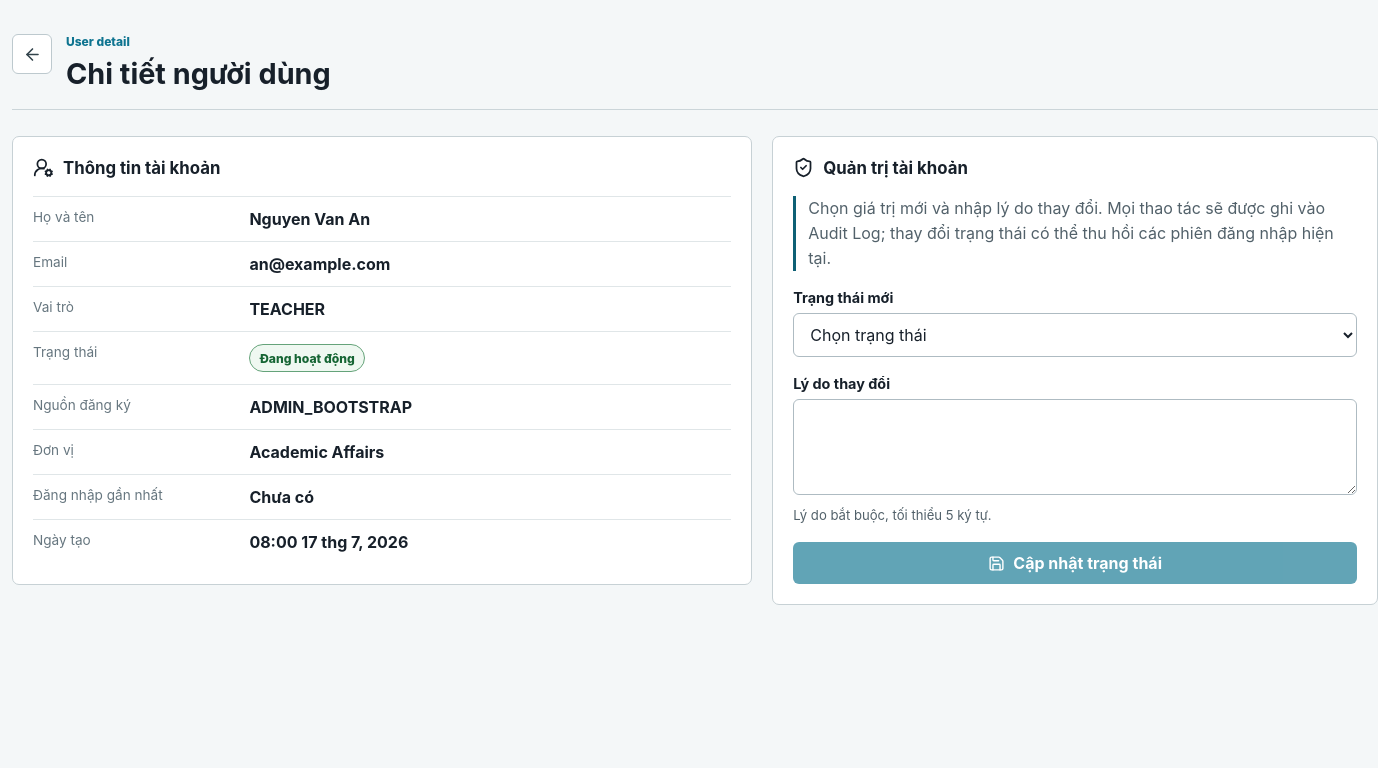
Test: Admin user management UI › explains a teacher status update blocked by active classrooms
Expected: the text "Nguyen Van An" is shown, [249, 209, 370, 229]
Select "Đã khóa" in the dropdown labelled "Trạng thái mới". click: (1075, 335)
box: [793, 313, 1357, 357]
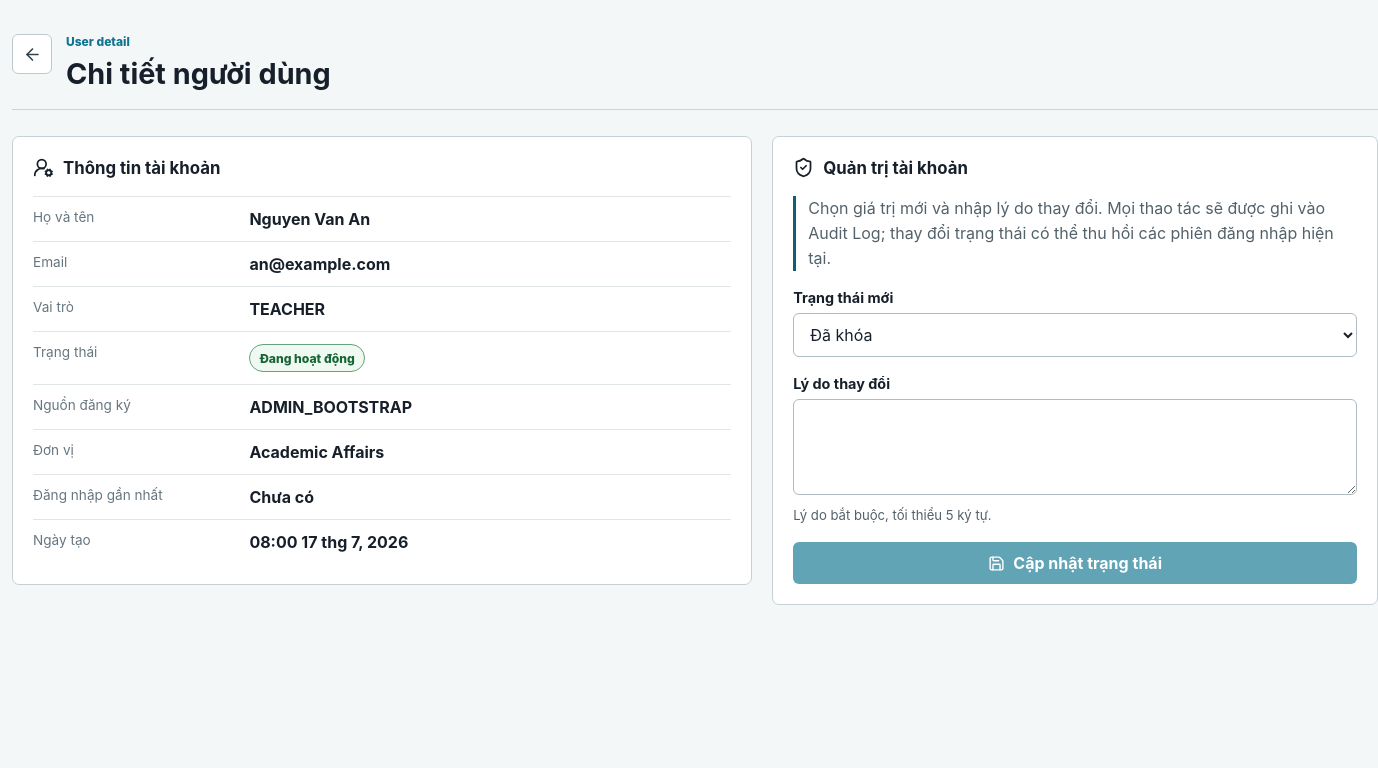
Type "Tạm khóa theo yêu cầu quản trị" into the text box labelled "Lý do thay đổi". click: (1075, 447)
box: [793, 399, 1357, 495]
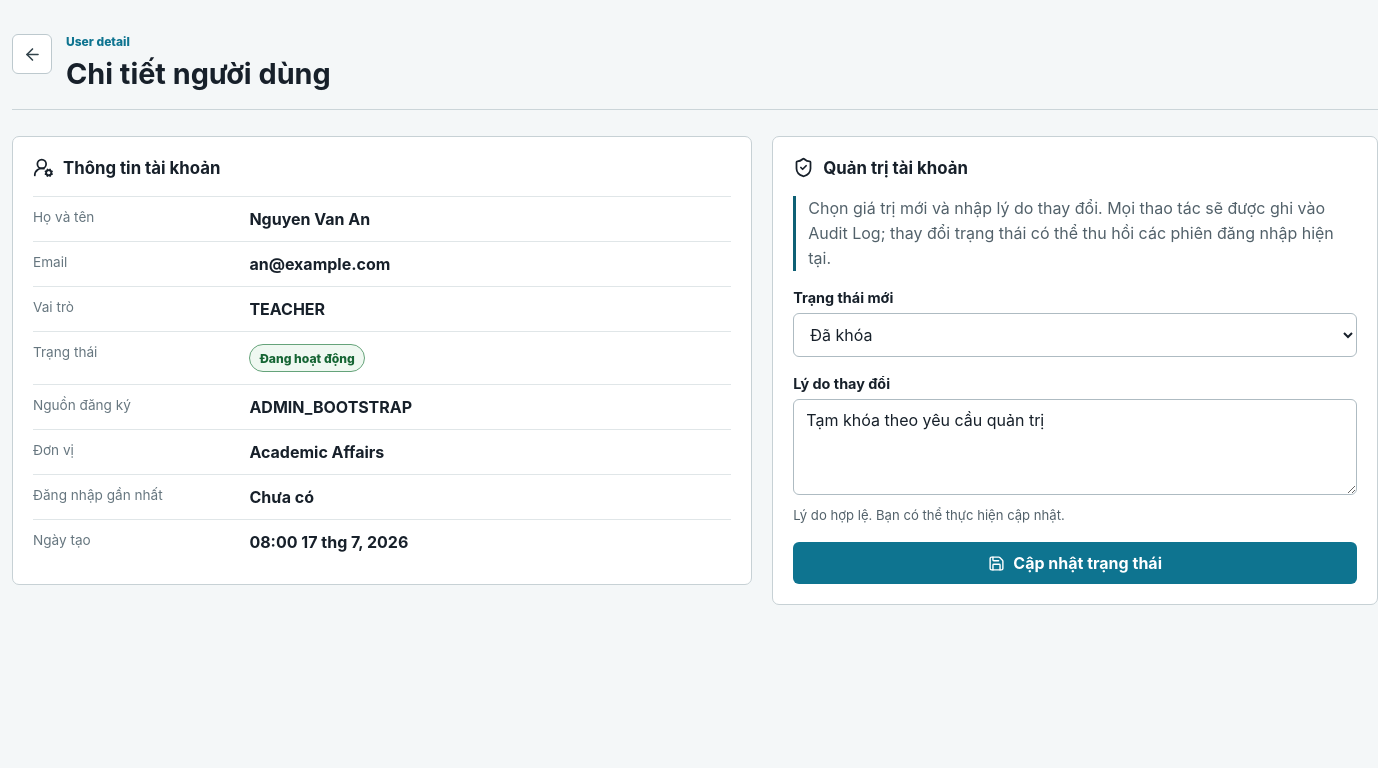
Click the button "Cập nhật trạng thái". click: (1075, 563)
box: [793, 542, 1357, 584]
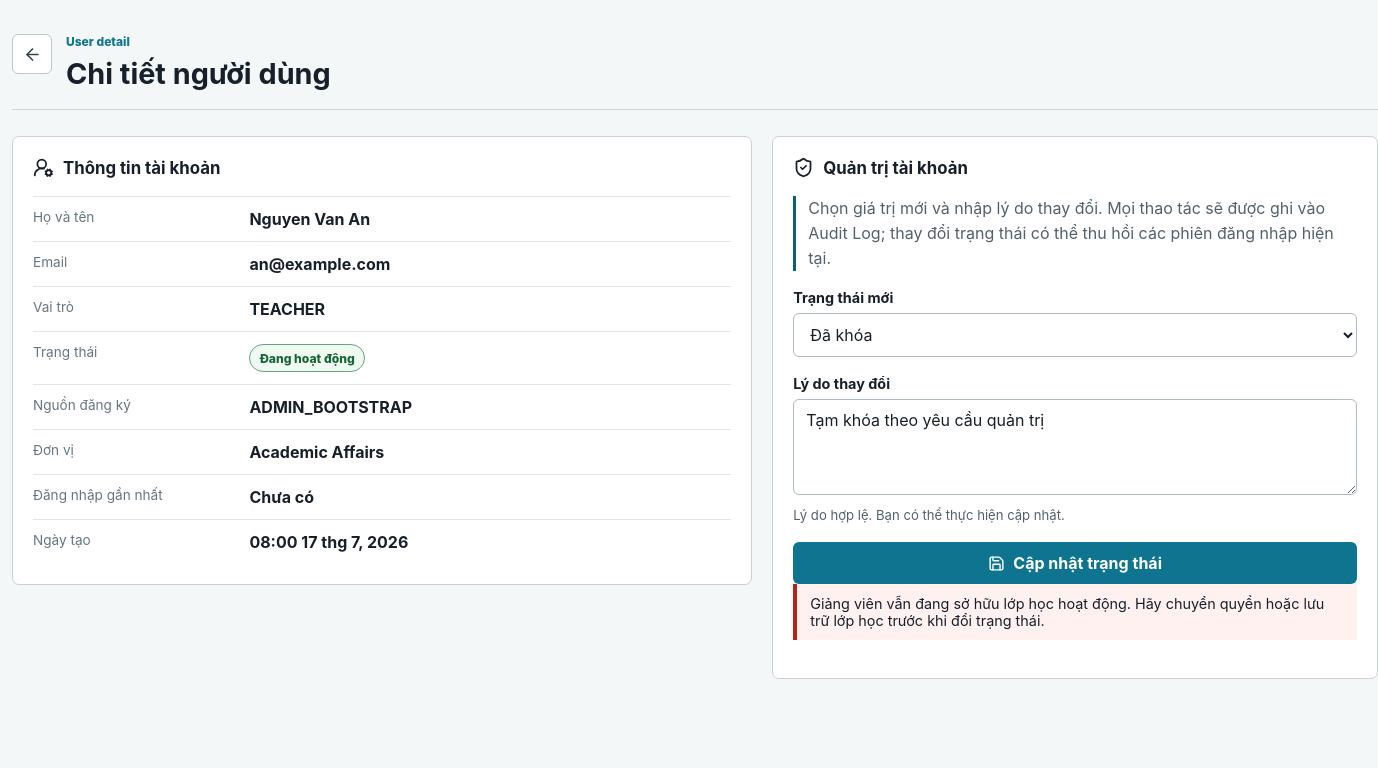
Expected: the message shows "Giảng viên vẫn đang sở hữu lớp học hoạt động", [810, 595, 1324, 629]
